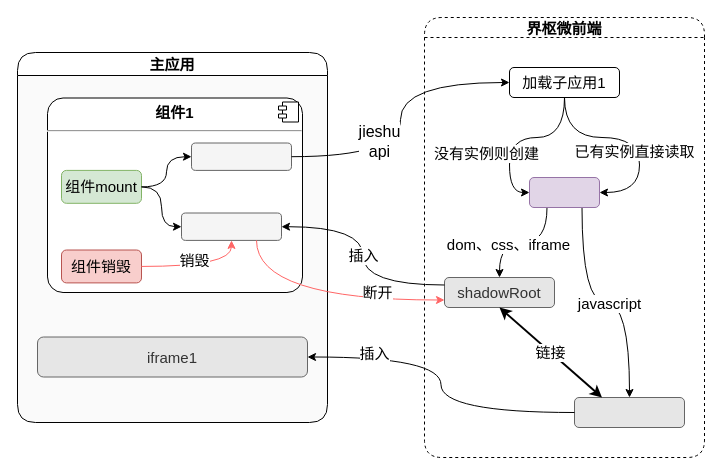
Image size: 722x475. Some labels were removed from this diagram. Each missing label, with the centre of its shape:
"iframe" goes at (629,412).
"jieshu实例" goes at (564,192).
"初始化子应用" goes at (241,156).
"提供dom容器" goes at (231,226).
